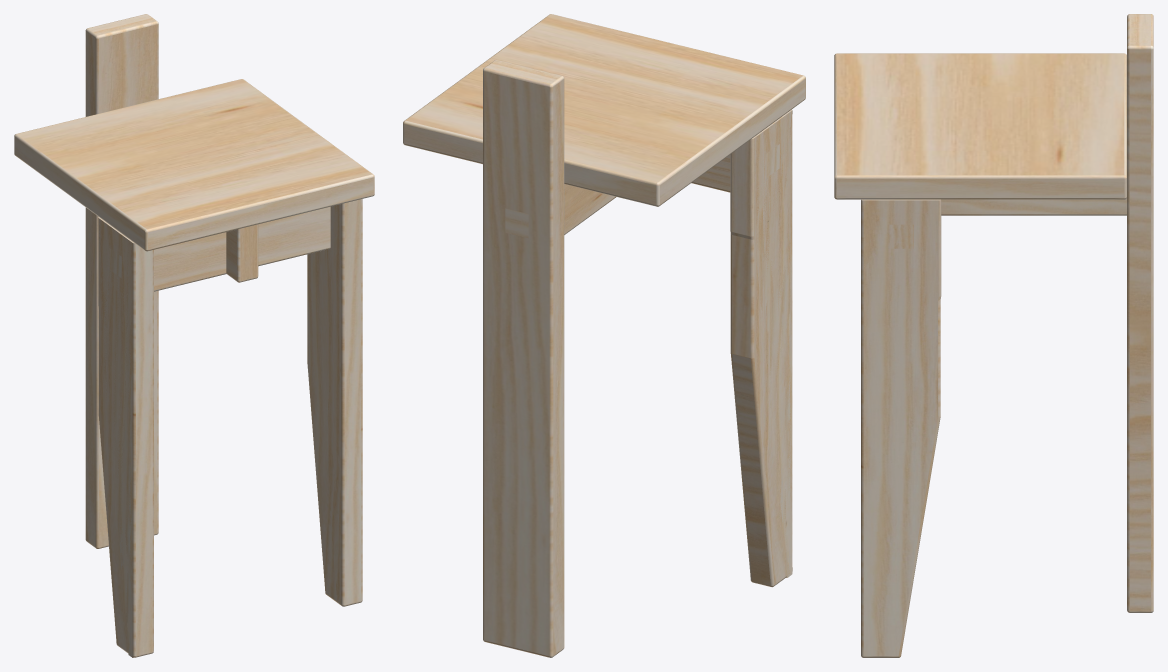
Rendered from asset.glb.
The picture shows the model from 3 angles, left to right: view 1: azimuth 30°, elevation 25°; view 2: azimuth 150°, elevation 25°; view 3: azimuth 270°, elevation 25°; orthographic projection. The views are drawn at different scales.
Parts seen in each view (by area): view 1: オブジェクト_1.001, オブジェクト_6.001, オブジェクト_5.001, オブジェクト_4.001, オブジェクト_7.001, オブジェクト_6.002, オブジェクト_4.002, オブジェクト_3.001; view 2: オブジェクト_4.001, オブジェクト_1.001, オブジェクト_6.001, オブジェクト_6.002, オブジェクト_3.001, オブジェクト_7.001; view 3: オブジェクト_1.001, オブジェクト_5.001, オブジェクト_4.001, オブジェクト_4.002, オブジェクト_3.001, オブジェクト_7.001.
Part boxes in pixels (left/top/right/bottom): オブジェクト_1.001: left=14, top=79, right=374, bottom=251; オブジェクト_6.001: left=98, top=217, right=153, bottom=657; オブジェクト_5.001: left=307, top=199, right=362, bottom=606; オブジェクト_4.001: left=85, top=14, right=158, bottom=548; オブジェクト_7.001: left=109, top=206, right=330, bottom=291; オブジェクト_6.002: left=98, top=217, right=133, bottom=657; オブジェクト_4.002: left=307, top=204, right=340, bottom=604; オブジェクト_3.001: left=226, top=224, right=258, bottom=282; オブジェクト_4.001: left=483, top=59, right=564, bottom=657; オブジェクト_1.001: left=403, top=14, right=805, bottom=206; オブジェクト_6.001: left=730, top=109, right=792, bottom=587; オブジェクト_6.002: left=730, top=111, right=792, bottom=577; オブジェクト_3.001: left=505, top=184, right=615, bottom=238; オブジェクト_7.001: left=691, top=144, right=779, bottom=192; オブジェクト_1.001: left=834, top=53, right=1126, bottom=199; オブジェクト_5.001: left=861, top=199, right=940, bottom=657; オブジェクト_4.001: left=1127, top=14, right=1153, bottom=612; オブジェクト_4.002: left=863, top=199, right=941, bottom=657; オブジェクト_3.001: left=941, top=198, right=1126, bottom=215; オブジェクト_7.001: left=887, top=224, right=913, bottom=248.
Bounding box in the file's own units: 0.22 × 0.47 × 0.24.
Materials: 2 (2 with a texture image).
